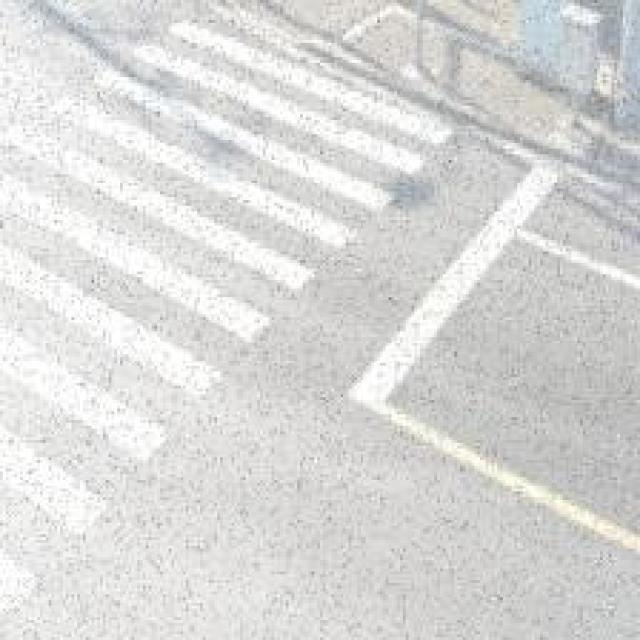crosswalk: (3, 16, 454, 616)
